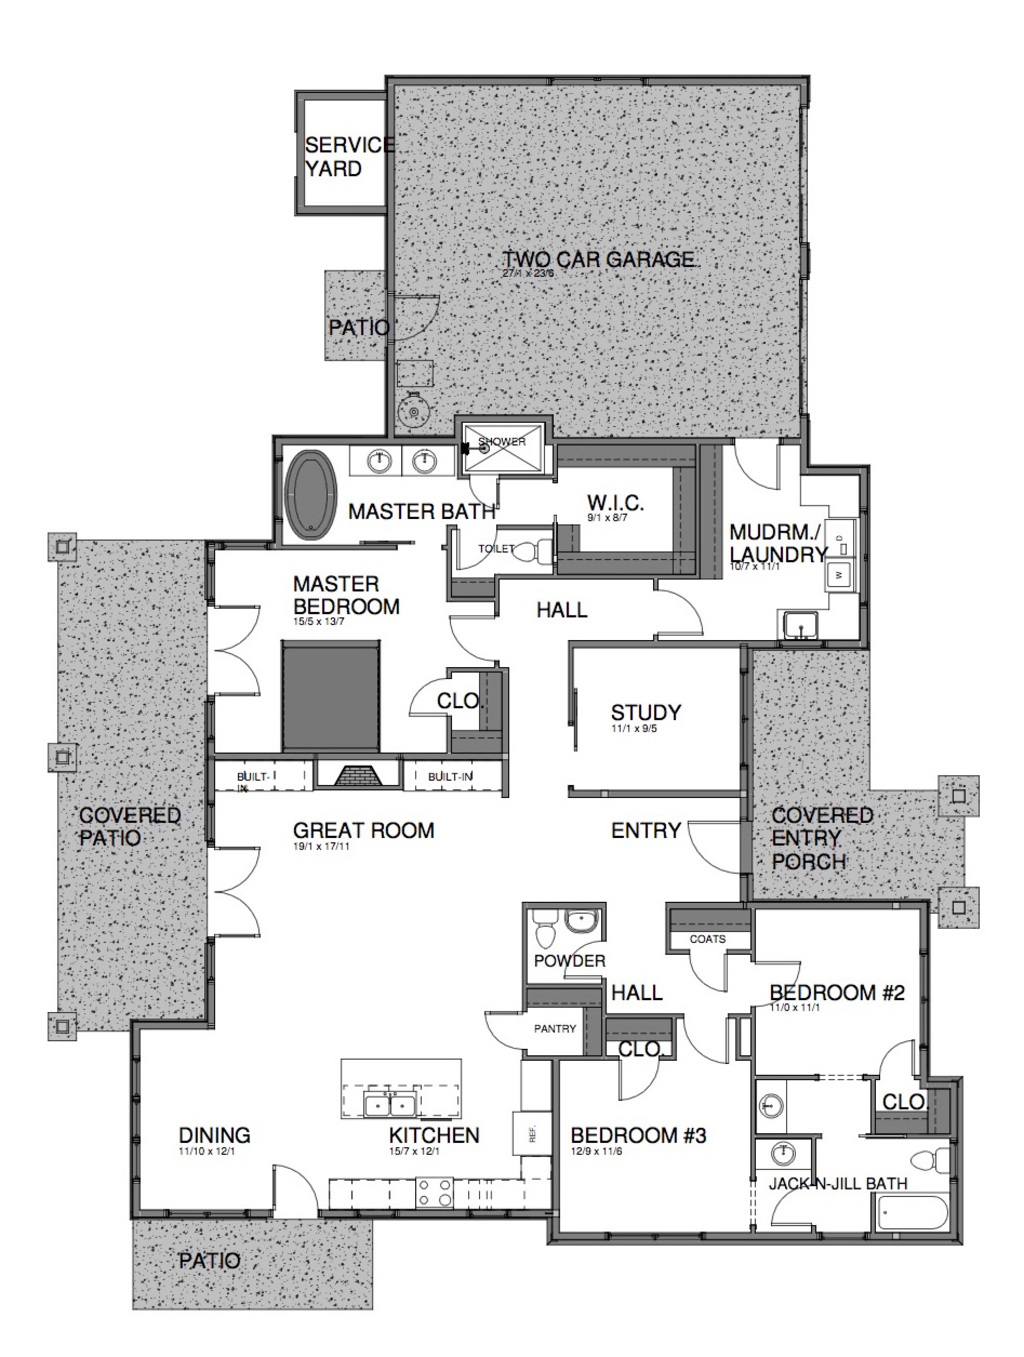door: (195, 590, 276, 711), (207, 838, 276, 935), (683, 805, 758, 886), (429, 505, 512, 576), (858, 1015, 933, 1090), (395, 667, 493, 722), (251, 1155, 326, 1226), (662, 928, 739, 996), (745, 940, 808, 1015), (675, 1001, 735, 1079), (393, 288, 460, 355), (605, 1046, 670, 1113), (731, 422, 791, 494), (656, 578, 716, 644), (447, 601, 506, 663), (760, 1176, 824, 1232), (477, 998, 541, 1053), (572, 930, 622, 988)
large_sink: (506, 523, 566, 584), (518, 896, 574, 961), (901, 1135, 964, 1186)
sink: (762, 578, 835, 655)
small_sink: (339, 434, 437, 496), (758, 1069, 797, 1148), (554, 898, 606, 940)
tub: (264, 426, 360, 548), (856, 1182, 962, 1234)
twin_sink: (360, 1073, 433, 1126)
